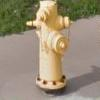Hydrant: (22, 1, 77, 92)
